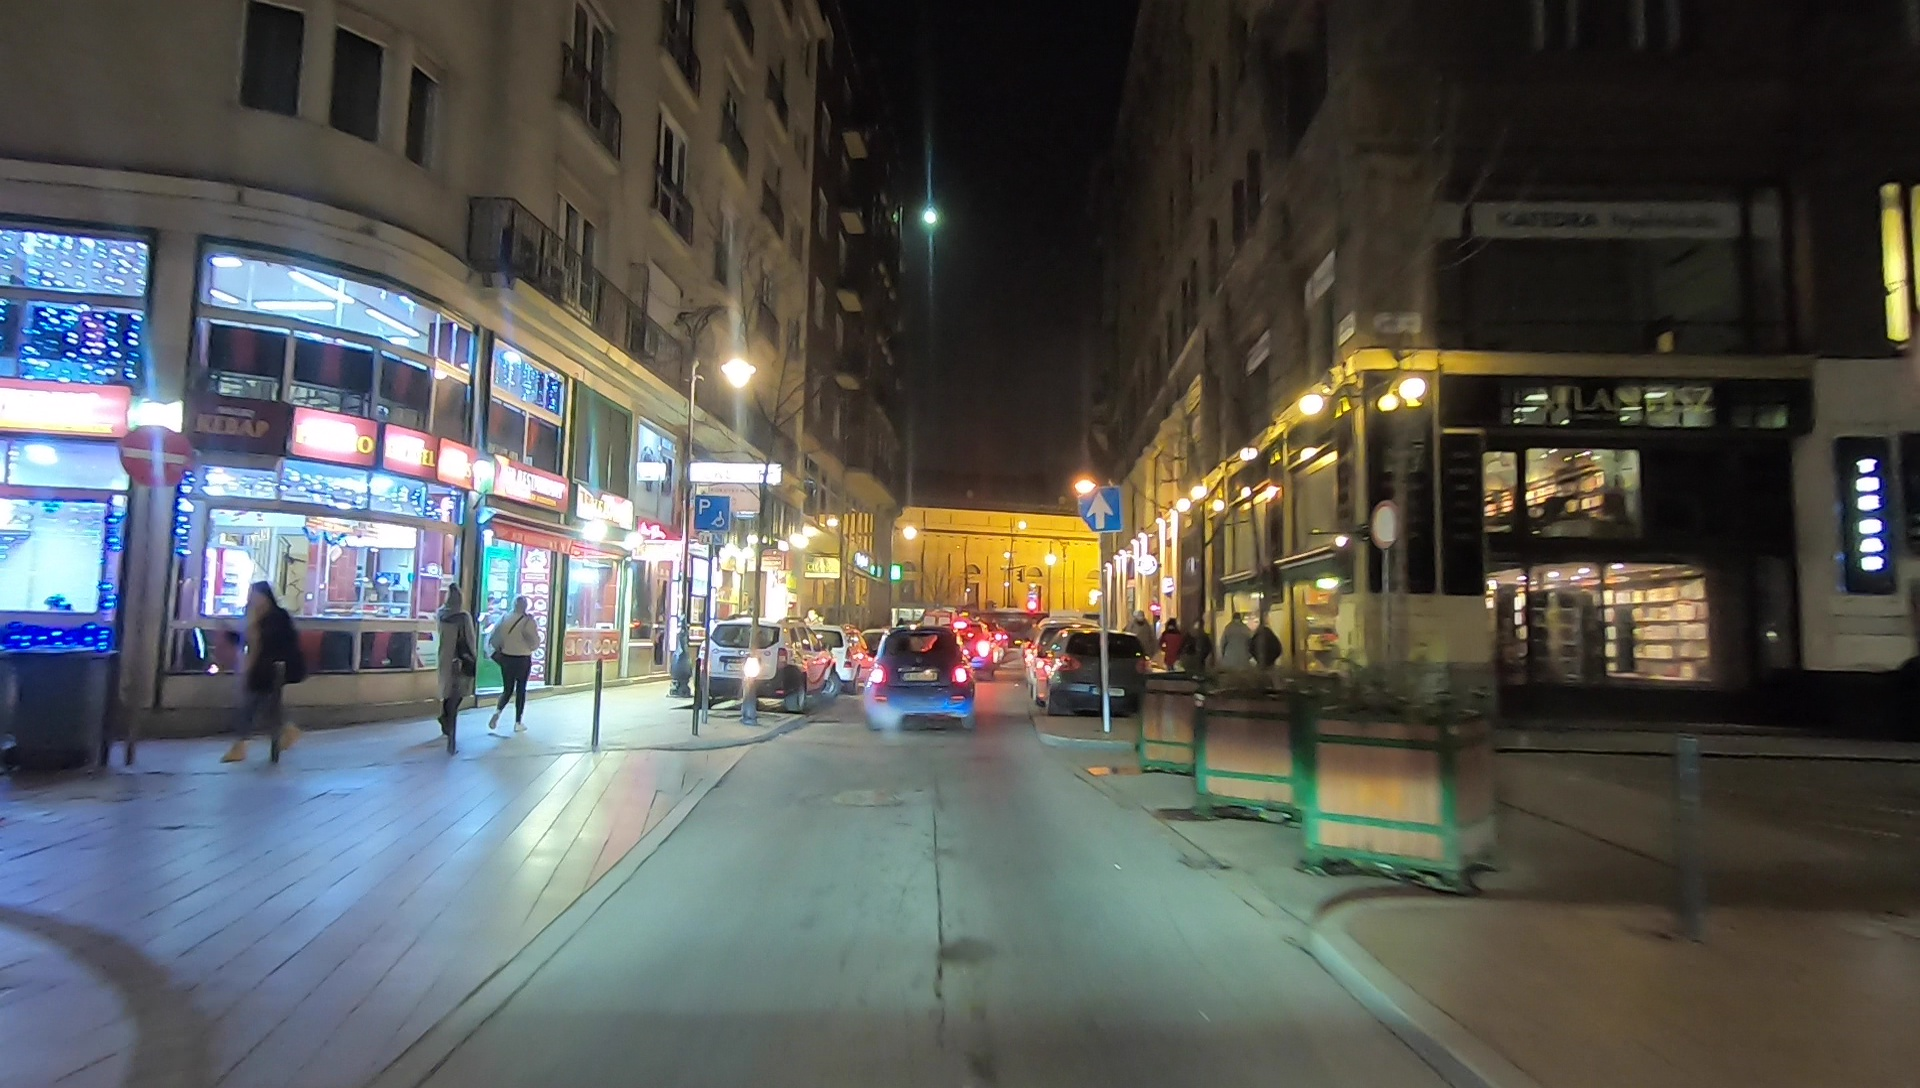person: (221, 580, 301, 774), (488, 595, 541, 739), (432, 580, 476, 743), (1217, 606, 1252, 700), (1252, 621, 1284, 700), (1158, 617, 1178, 693)
